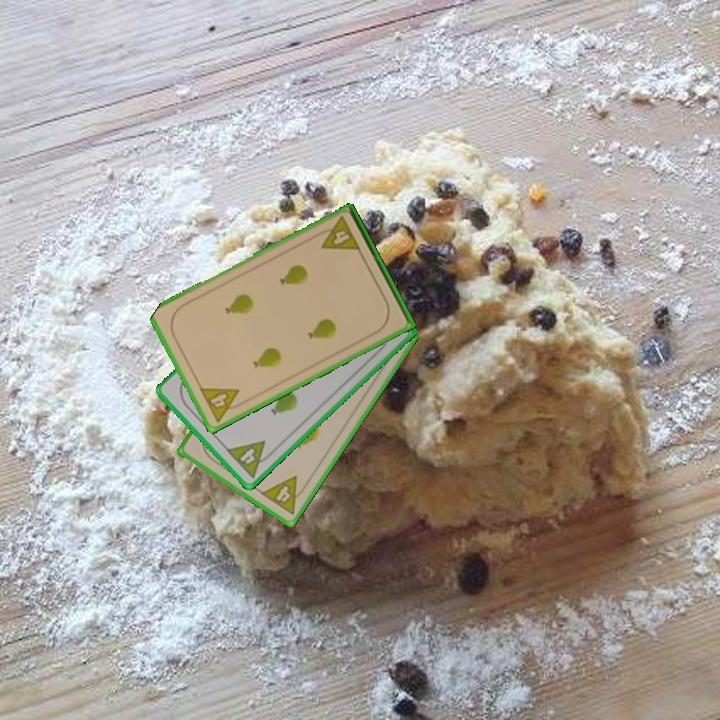4p: (257, 472, 311, 518), (223, 437, 277, 481), (196, 384, 248, 425), (313, 213, 363, 254)
